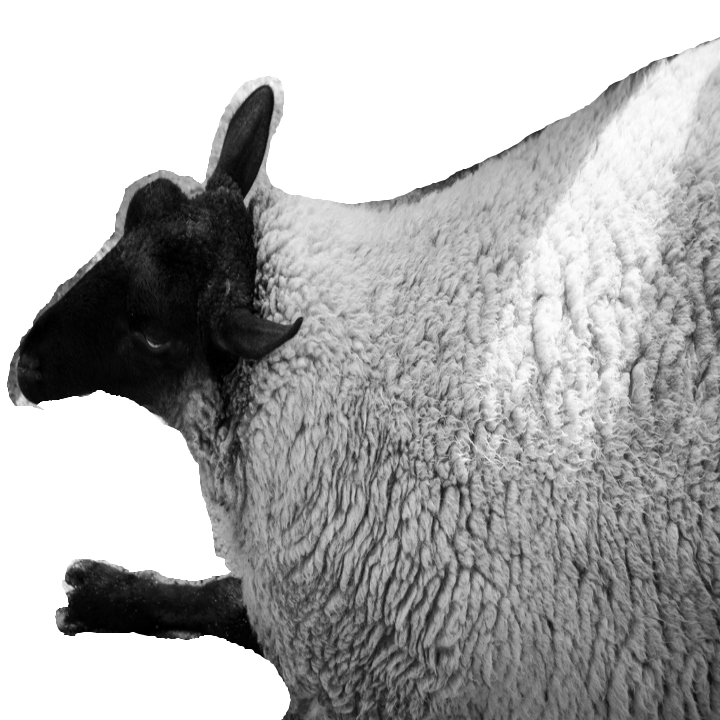Sheep: (17, 36, 719, 719)
